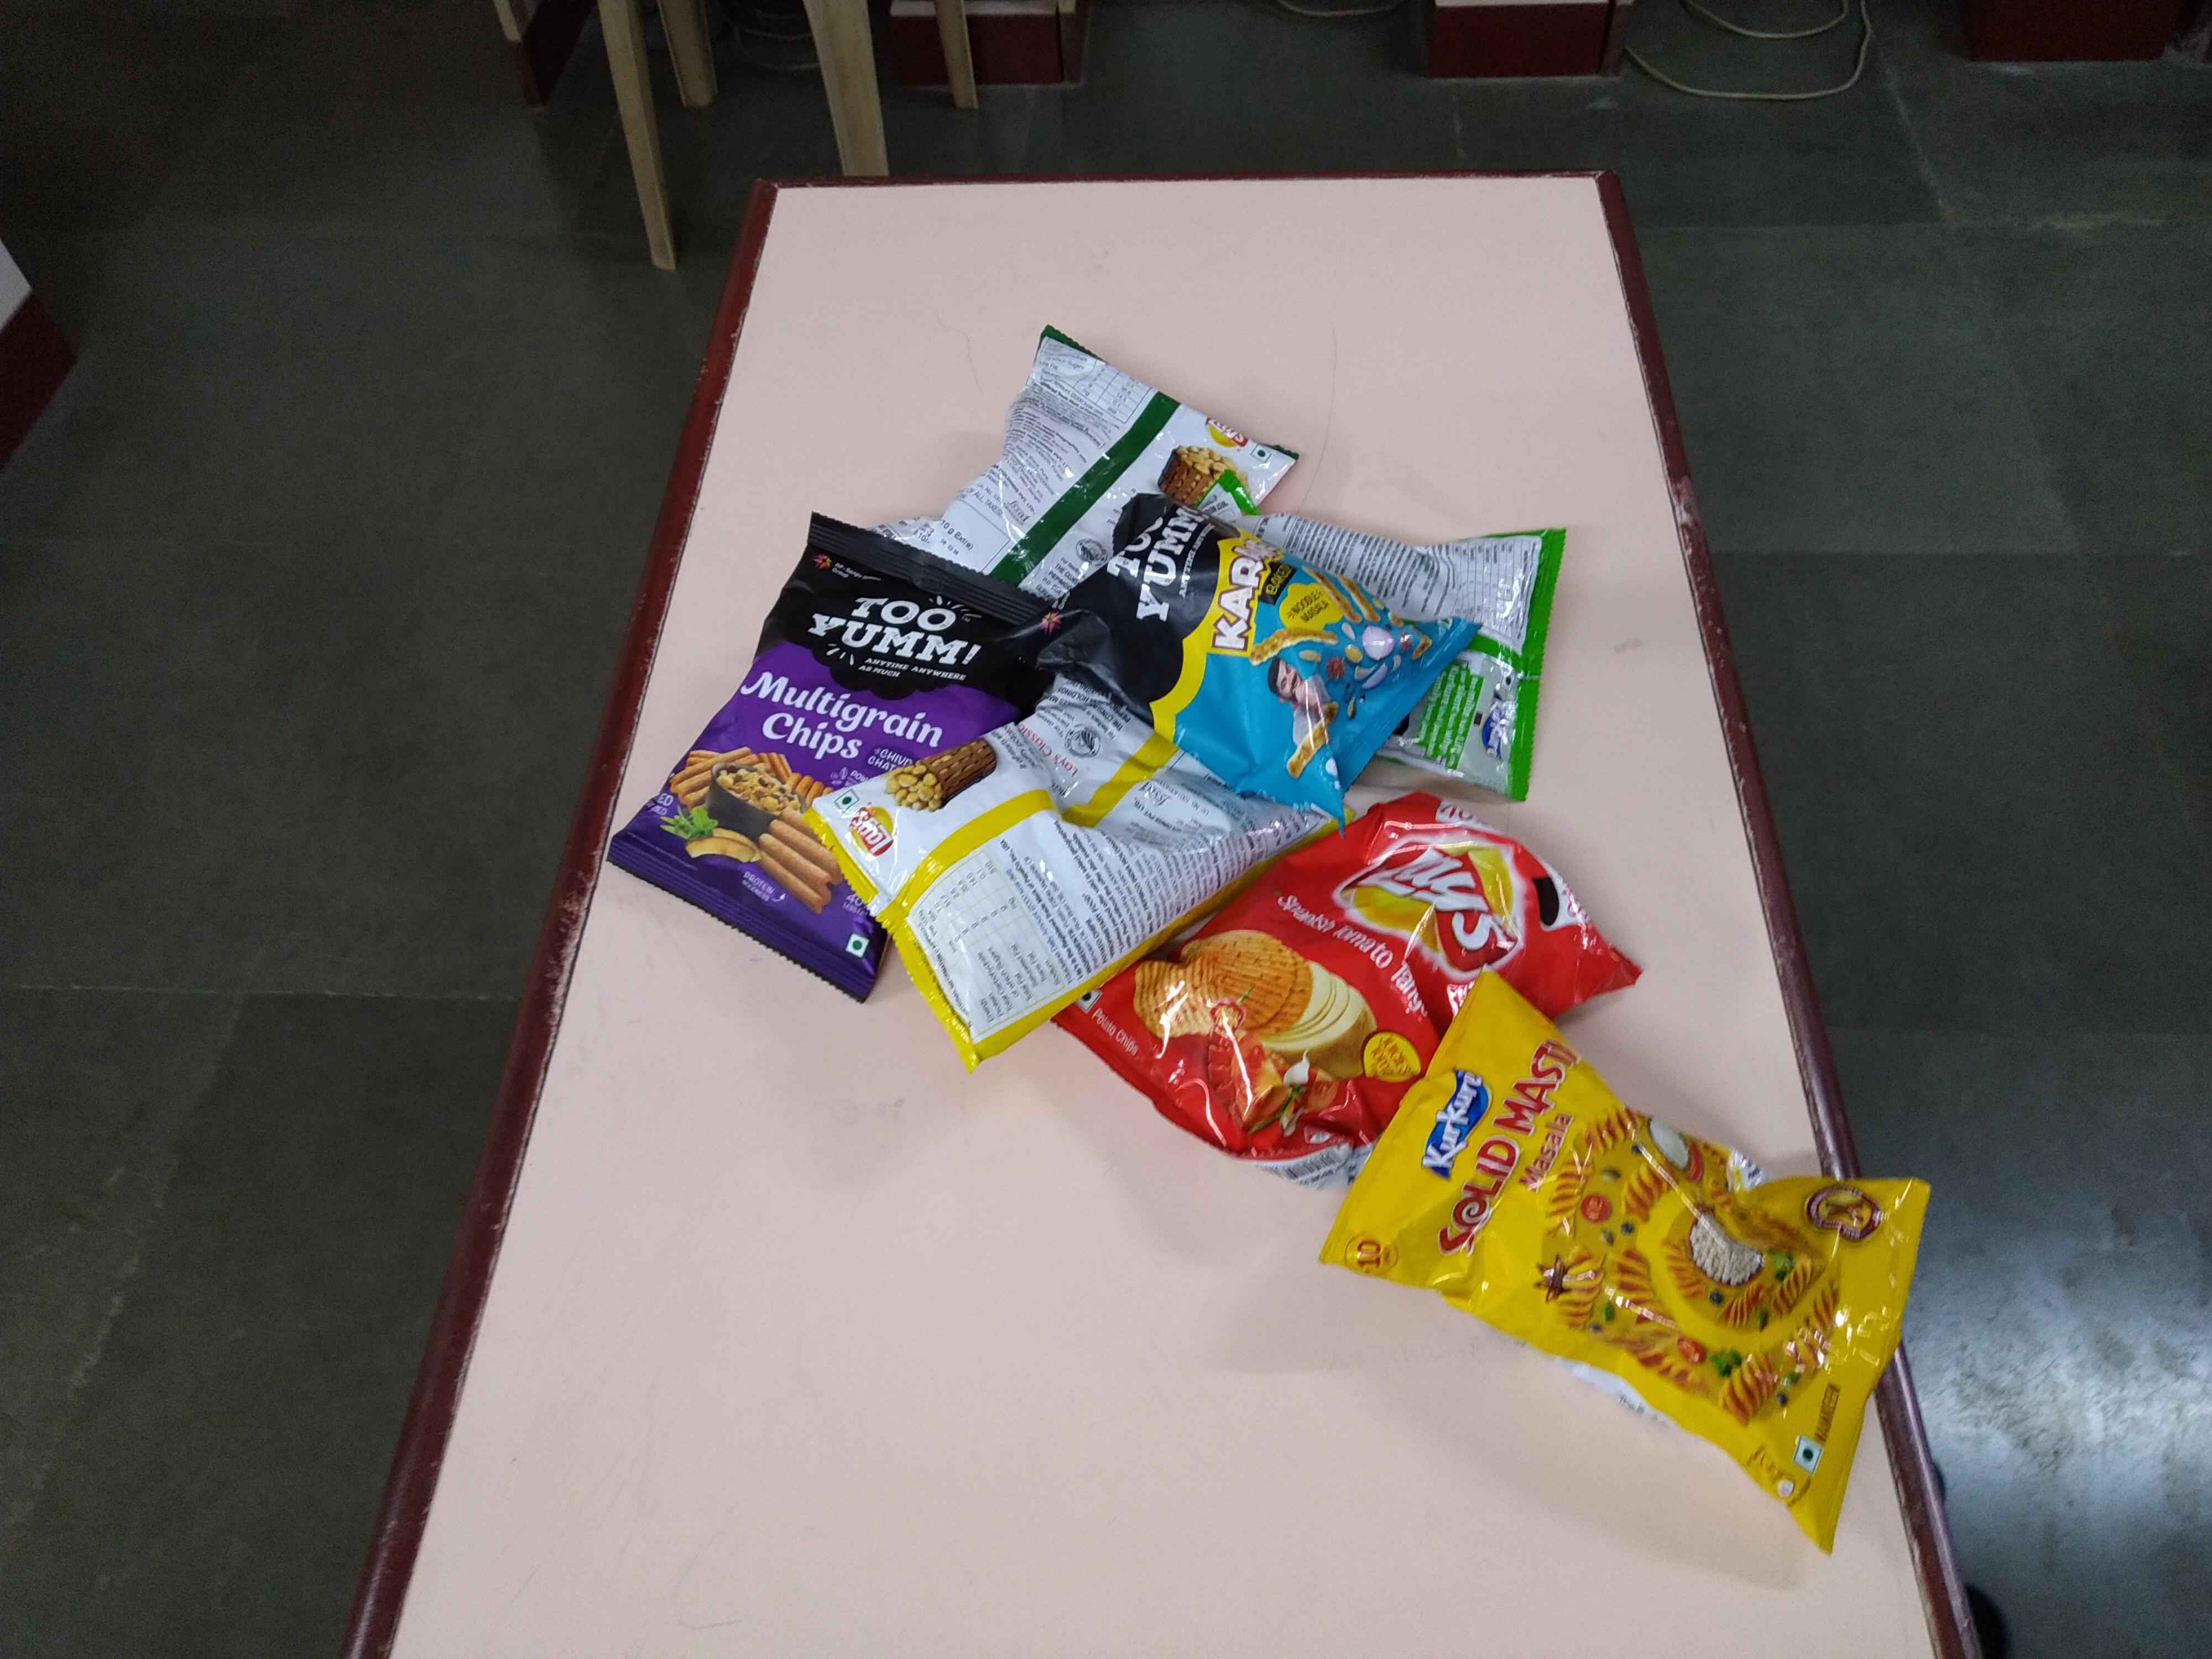Lays: (1355, 816, 1559, 979), (1202, 406, 1261, 469)
kurkure: (1407, 1056, 1503, 1178), (1480, 676, 1519, 775)
tooyumm: (796, 559, 984, 690), (1111, 502, 1221, 652)
